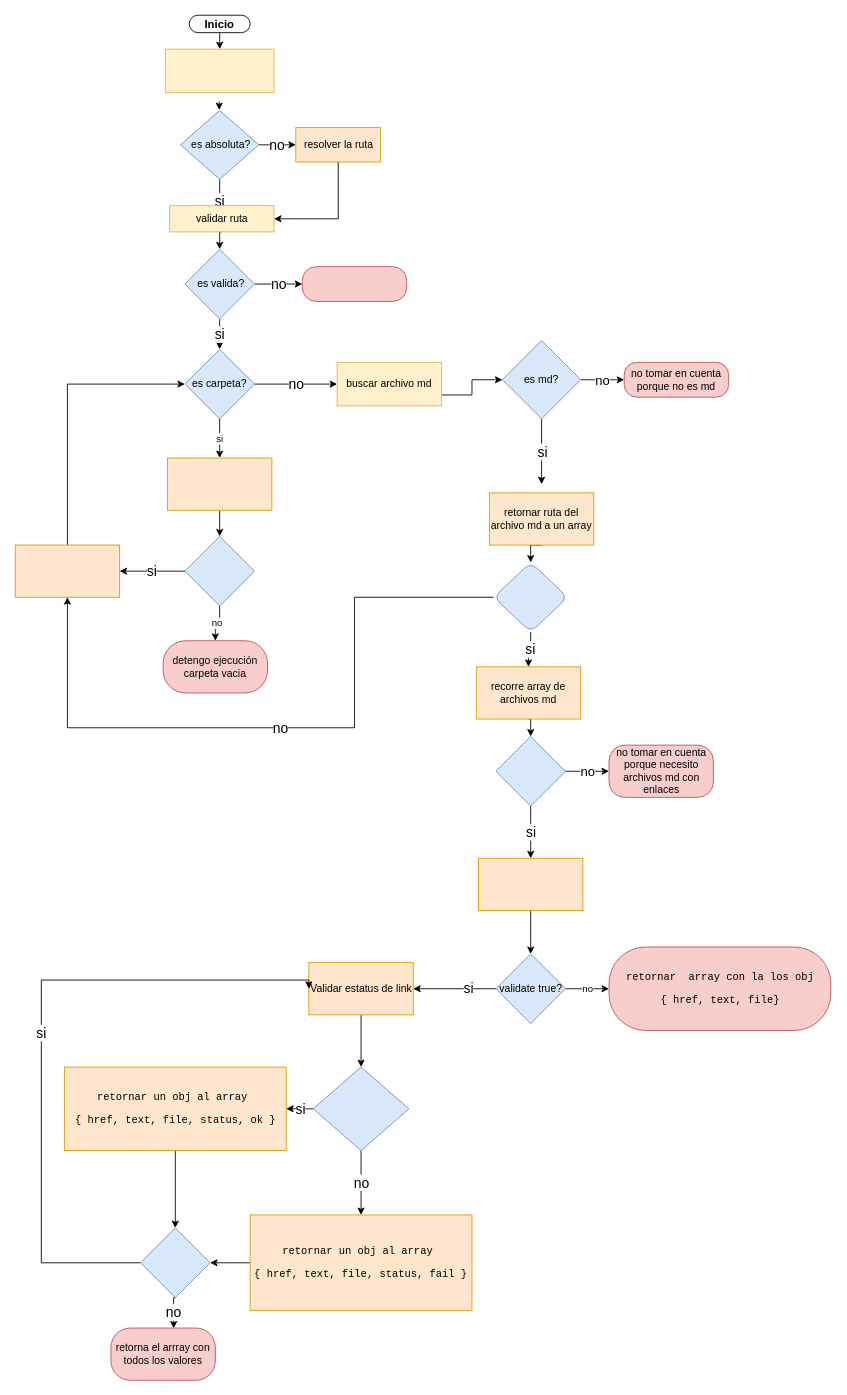
Image size: 847x1395. Some labels were removed from this diagram. The shapes that lost their labels are listed below. From the top down, each one's centre as x and y in pixels, then its label:
At (x=219, y=70): "recibir ruta de archivo".
At (x=354, y=283): "mensaje de ruta no valida".
At (x=219, y=483): "recorre carpeta".
At (x=67, y=570): "analiza que tipo de elemento es".
At (x=219, y=570): "contiene elementos?".
At (x=530, y=597): "es el ultimo elemento".
At (x=530, y=771): "tiene links".
At (x=530, y=883): "verificar option".
At (x=360, y=1108): "link valido !404 no caido".
At (x=175, y=1262): "hay mas link?".
